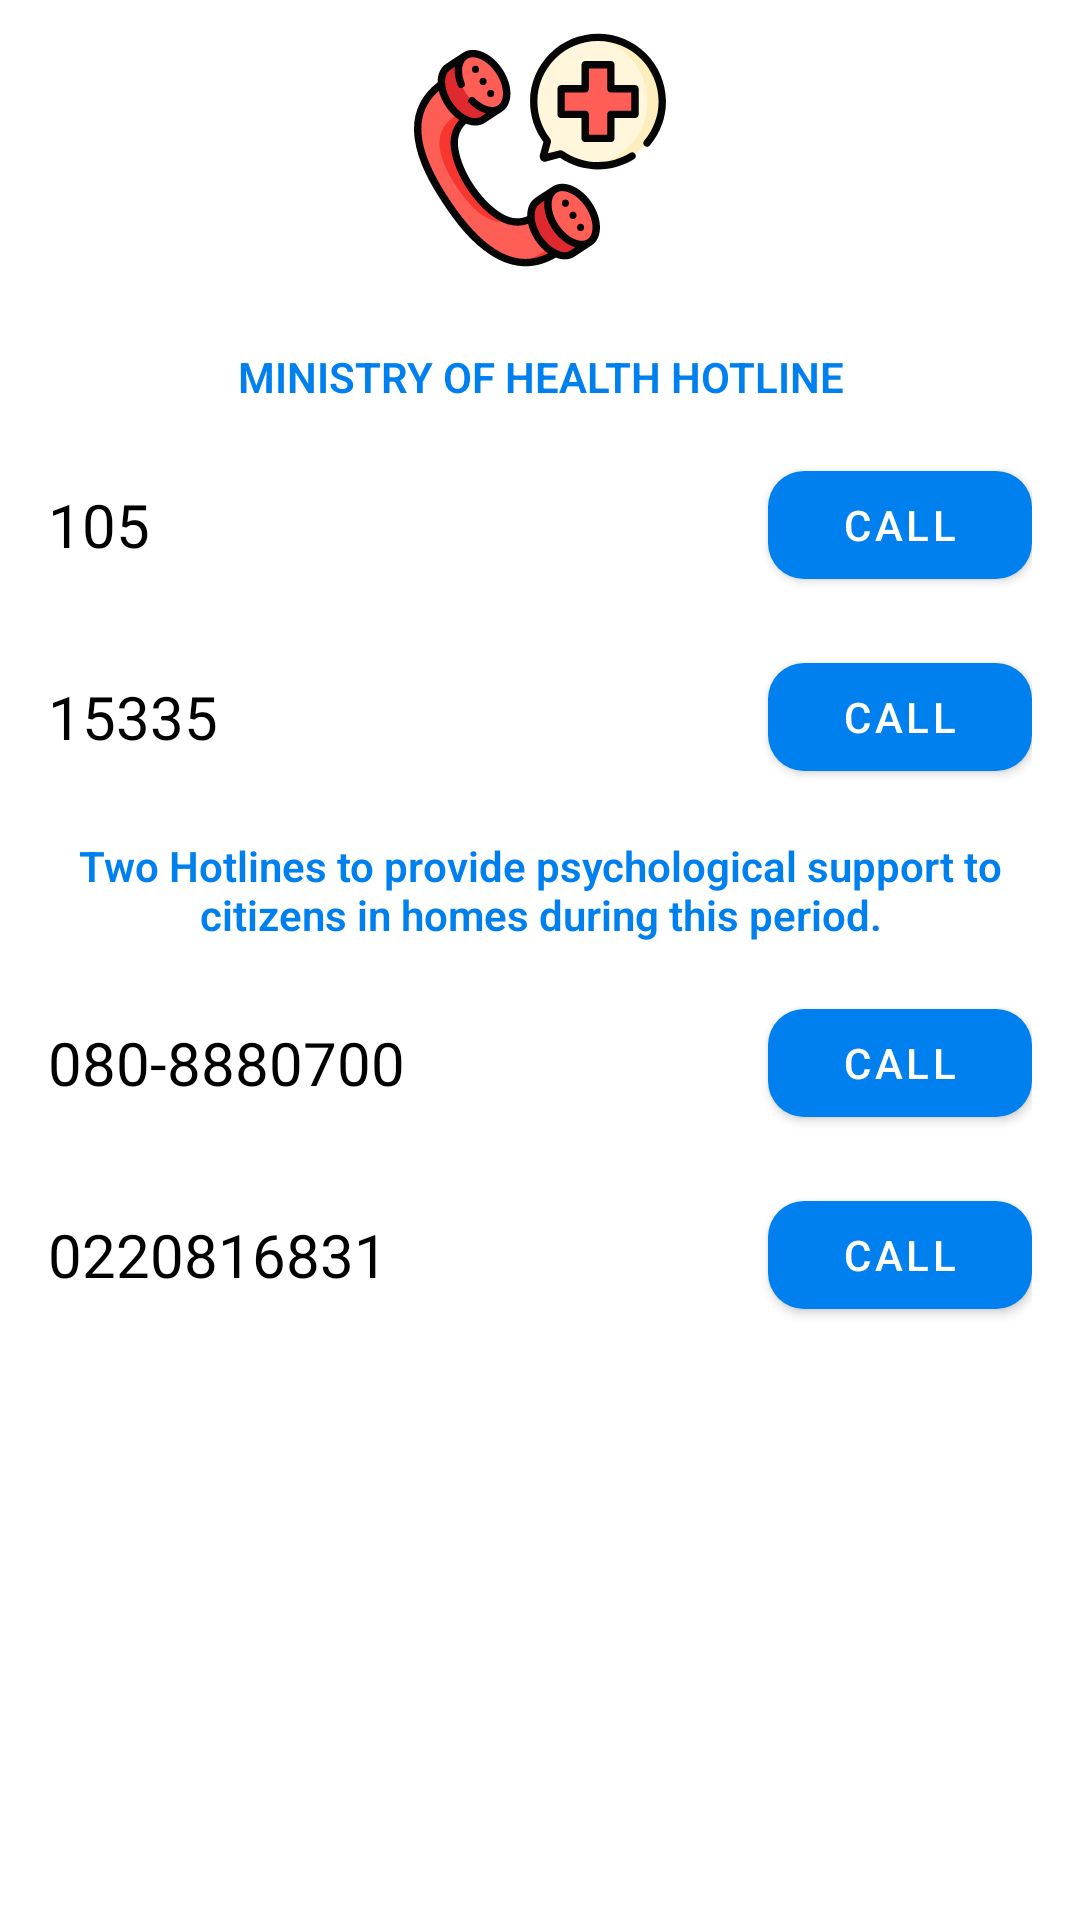

Named icons in this screenshot (1080*1920) and their bounding boxes, {"x1": x1, "y1": y1, "x2": x2, "y2": y2}:
emergency: {"x1": 414, "y1": 33, "x2": 666, "y2": 267}
